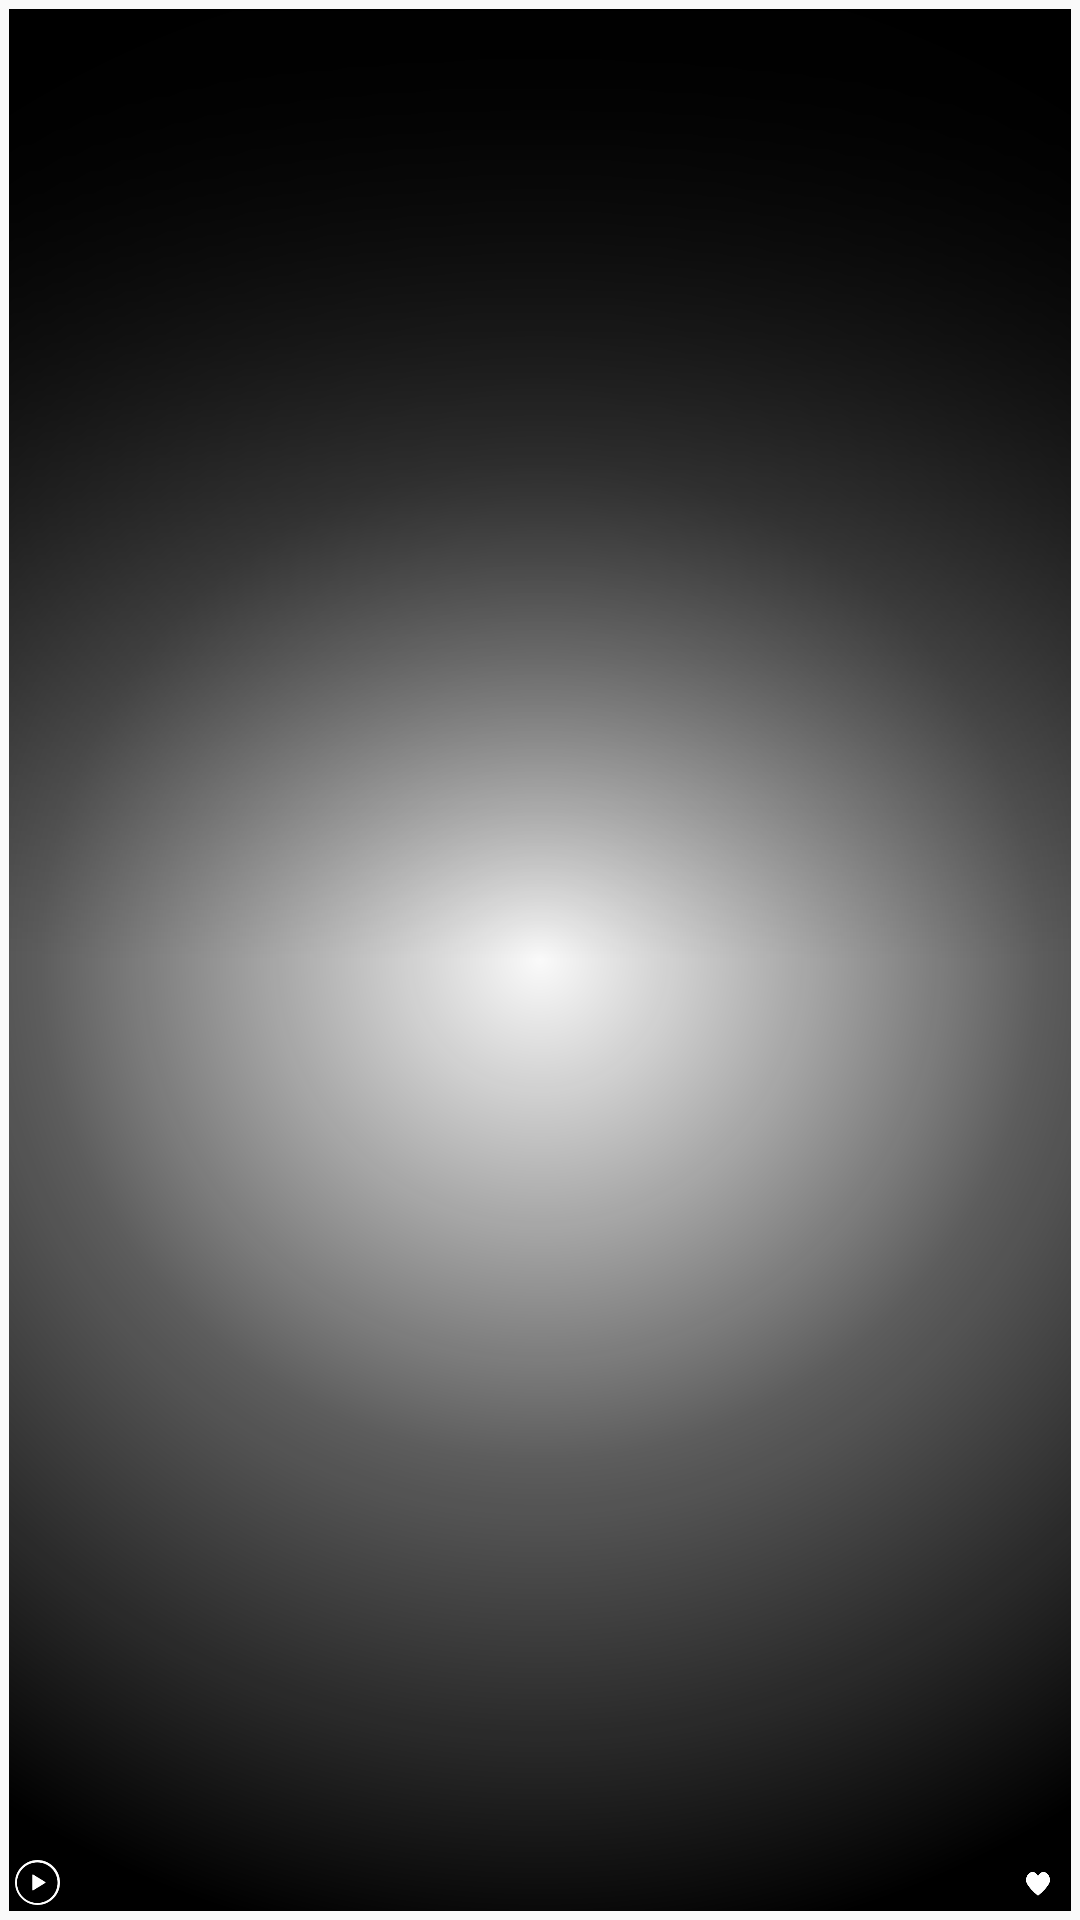

Named icons in this screenshot (1080 x 1920) and their centers, (x=x, y=y):
heart: (x=1038, y=1884)
play: (x=37, y=1882)
